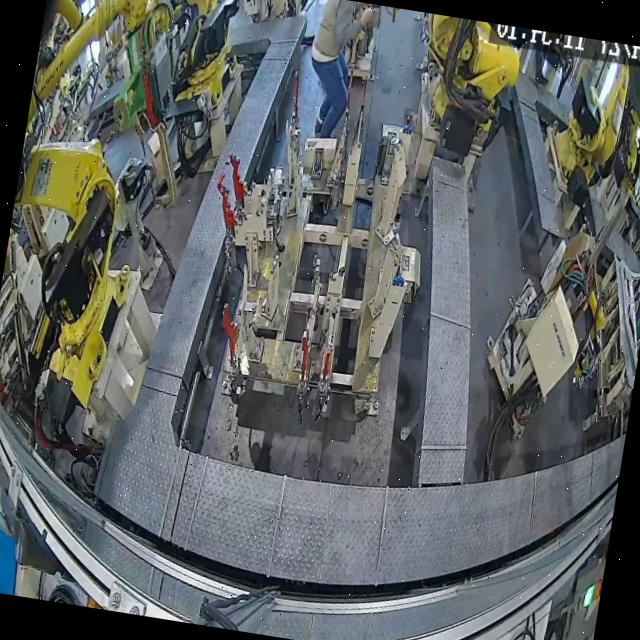Person: (299, 0, 375, 143), (213, 302, 246, 366)
